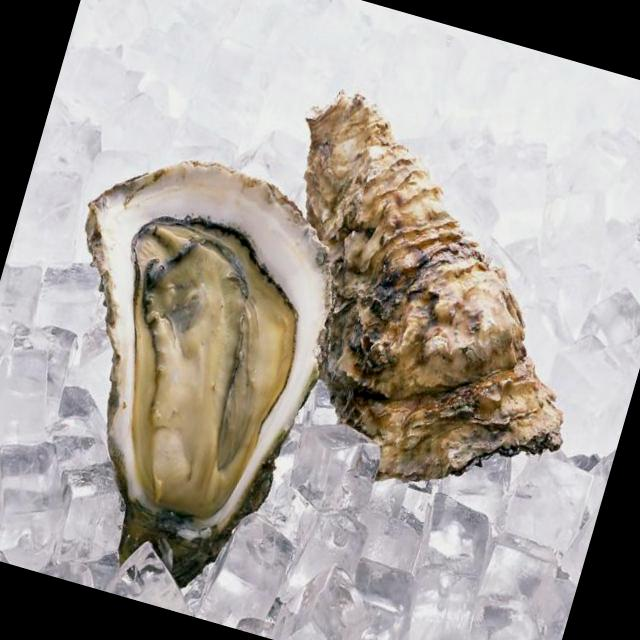Oyster-Closed: (305, 94, 562, 479)
Oyster-Open: (86, 161, 328, 586)
